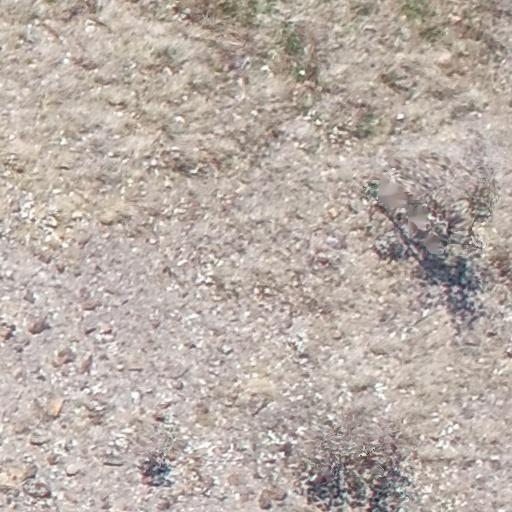stone: (52, 345, 78, 368), (21, 310, 48, 332), (75, 353, 93, 374), (28, 431, 51, 447), (46, 398, 64, 416), (165, 365, 187, 379), (260, 490, 273, 510), (83, 297, 102, 310), (270, 488, 286, 501), (67, 462, 79, 477), (39, 252, 54, 263), (44, 217, 58, 228), (156, 498, 168, 509), (172, 380, 186, 388), (84, 326, 94, 335), (102, 326, 113, 334), (218, 346, 232, 352)
